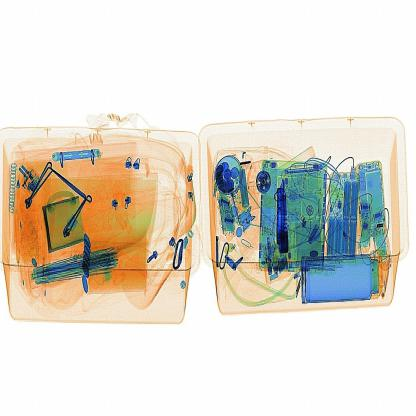pliers: (269, 173, 297, 262)
